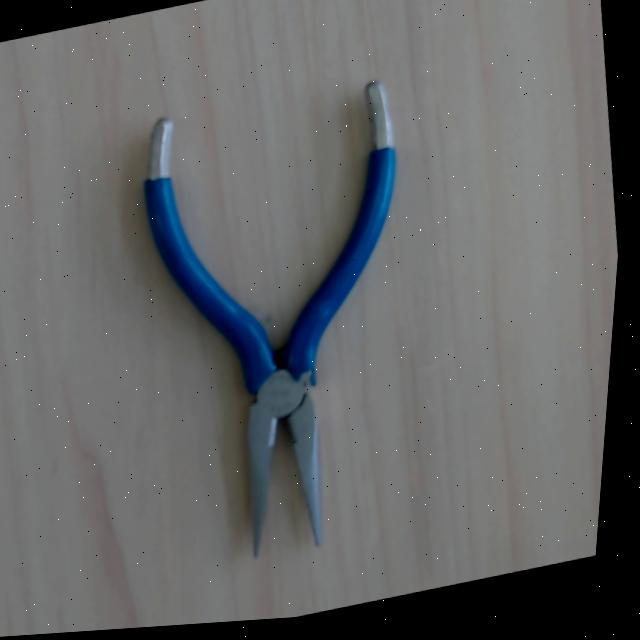Tang-Jepit-Biru: (133, 79, 459, 562)
